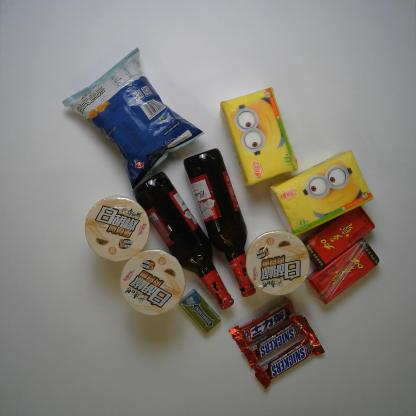Alcohol: (131, 169, 235, 312), (182, 145, 256, 299)
Chocolate: (249, 331, 327, 391), (238, 313, 315, 371), (228, 296, 299, 349)
Drink: (305, 236, 382, 306), (302, 206, 378, 269)
Gum: (176, 287, 224, 337)
Instant Noodles: (245, 224, 313, 300), (116, 247, 188, 318), (82, 195, 152, 264)
Puffed Food: (60, 47, 205, 192)
Tissue: (266, 147, 376, 236), (219, 86, 302, 189)
